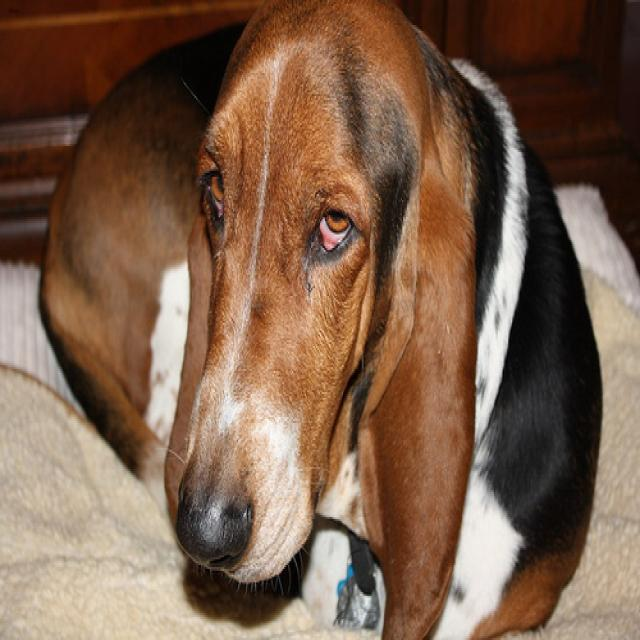dog-basset_hound: (33, 2, 608, 636)
